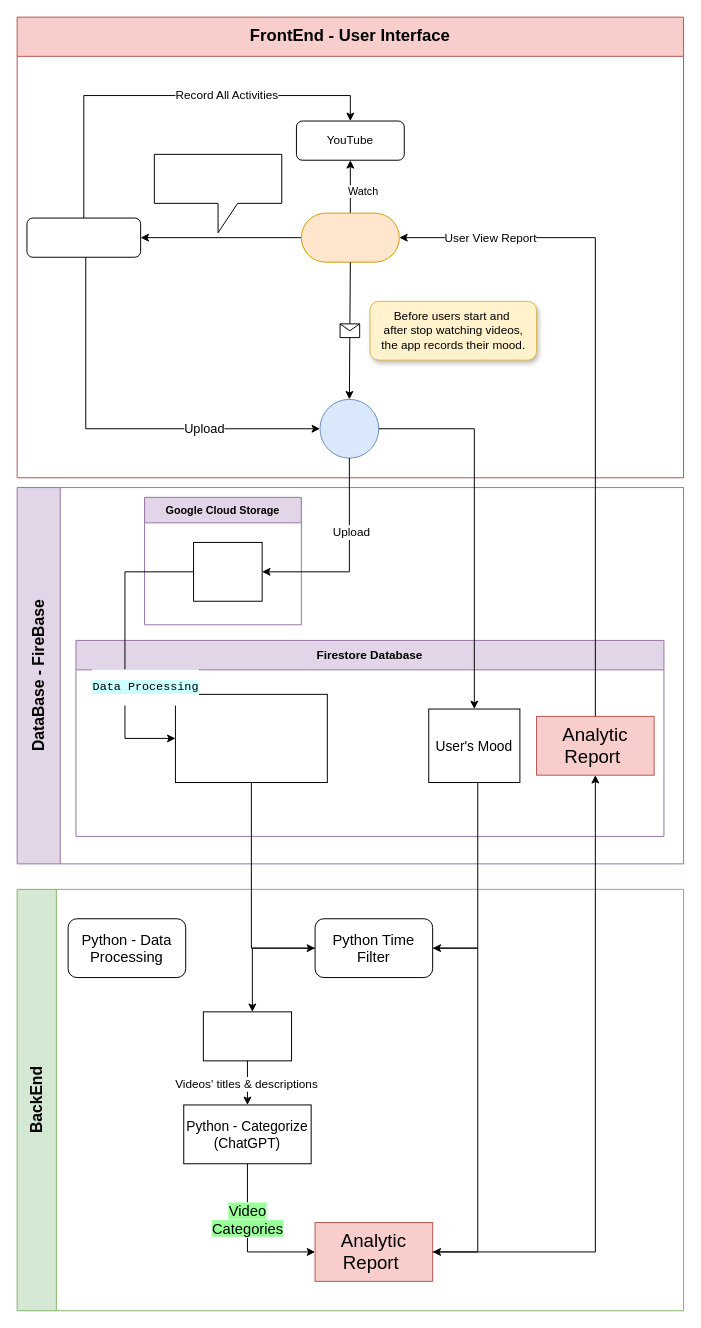
Image size: 701x1328. Some labels were removed from this diagram. The centre of each missing label's shape, as x and y in pixels:
Download YouTube Watch History: point (217, 193)
EmoTrack: point (349, 428)
Google Takeout: point (83, 237)
JSON File: point (227, 571)
Python Scraper: point (247, 1036)
User: point (349, 237)
User's YouTube Watching History Data (URLs & watching times): point (250, 738)
